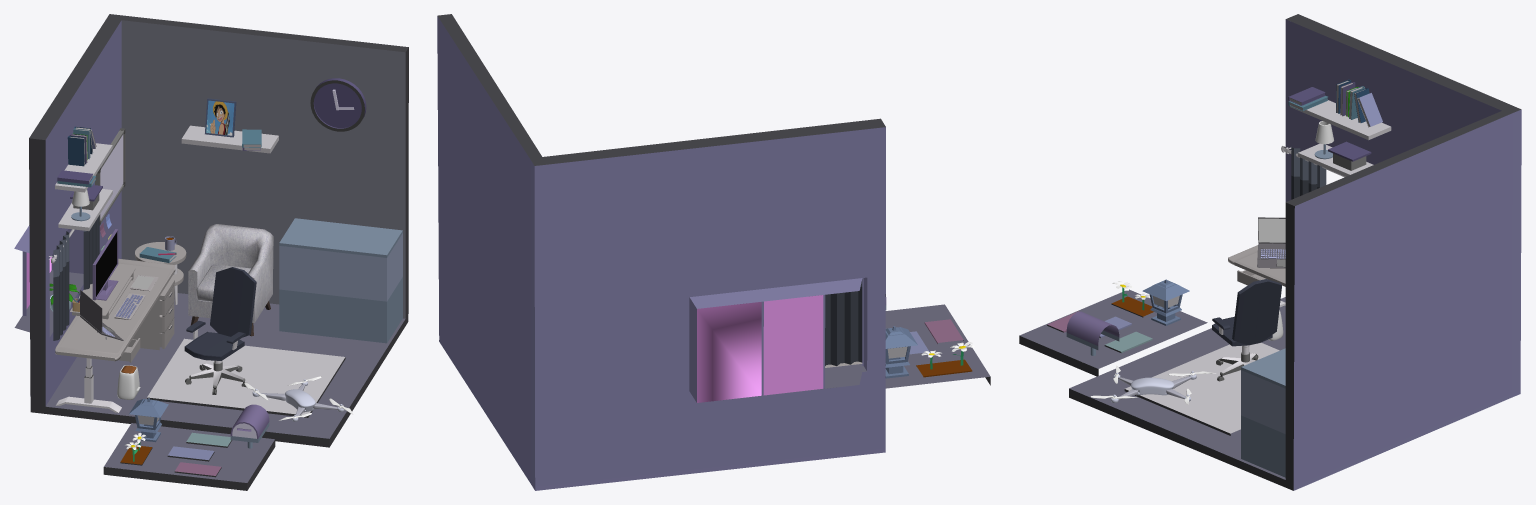
File: myRoomV4.2.1.glb
3 renders of one model, left to right at view 1: azimuth 30°, elevation 25°; view 2: azimuth 150°, elevation 25°; view 3: azimuth 270°, elevation 25°, orthographic. The views are drawn at different scales.
Parts seen in each view (by area): view 1: Room, Aquarium, room extended.004, room extended, AquariumGlass, SofaChair, tableTop, Cylinder.002, curtains, ClockBody, whiteBoard, rack1.001 (+20 smaller); view 2: Room, room extended, curtains, outdoorLamp, room extended.005, room extended.002; view 3: Room, room extended, room extended.004, Cylinder.002, Aquarium, AquariumGlass, rack2, mailbox, curtains, outdoorLamp, tableTop, Cube.003 (+5 smaller).
Part boxes in pixels (<box>): Room: <box>14,14,408,447</box>; Aquarium: <box>279,218,402,343</box>; room extended.004: <box>147,338,345,417</box>; room extended: <box>103,423,275,490</box>; AquariumGlass: <box>279,233,402,301</box>; SofaChair: <box>188,224,273,336</box>; tableTop: <box>55,258,175,361</box>; Cylinder.002: <box>184,267,256,360</box>; curtains: <box>53,215,99,340</box>; ClockBody: <box>310,78,366,131</box>; whiteBoard: <box>95,128,125,225</box>; rack1.001: <box>181,125,278,153</box>; Room: <box>437,14,885,490</box>; room extended: <box>885,304,990,388</box>; curtains: <box>825,279,862,365</box>; outdoorLamp: <box>885,326,917,378</box>; room extended.005: <box>916,359,972,377</box>; room extended.002: <box>924,319,963,343</box>; Room: <box>1069,14,1521,490</box>; room extended: <box>1019,289,1207,376</box>; room extended.004: <box>1124,342,1279,435</box>; Cylinder.002: <box>1212,279,1281,346</box>; Aquarium: <box>1241,348,1285,477</box>; AquariumGlass: <box>1241,370,1285,433</box>; rack2: <box>1290,100,1391,140</box>; mailbox: <box>1066,311,1119,349</box>; curtains: <box>1291,146,1326,199</box>; outdoorLamp: <box>1142,279,1189,325</box>; tableTop: <box>1228,245,1285,286</box>; Cube.003: <box>1328,141,1371,170</box>.
Size of the model in its own units: 27.74 by 18.96 by 30.1.
59 materials, 4 textured.
